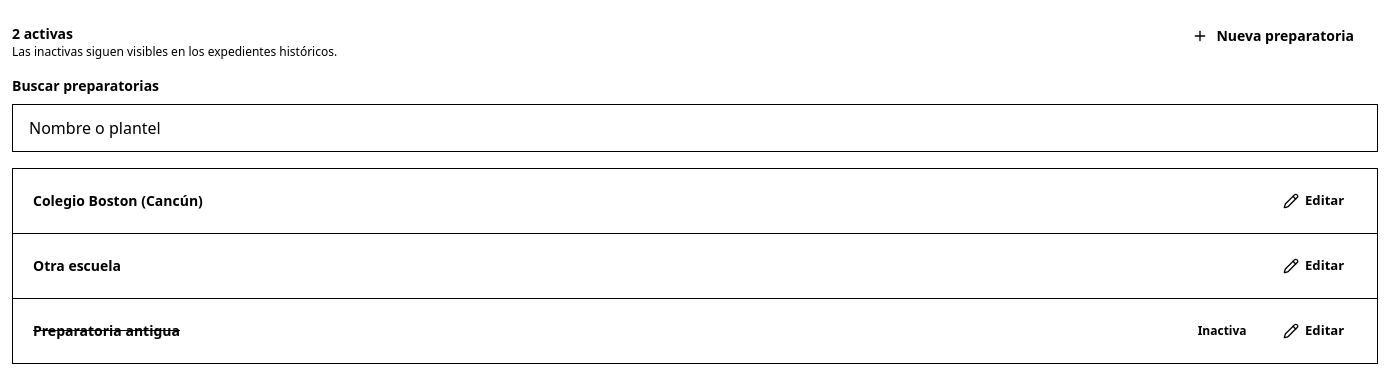
Test: shows active count, searches names and keeps inactive entries visible to coordination
The image size is (1390, 381).
Expected: the text "2 activas" is shown, [12,24,73,43]
Expected: the text "Preparatoria antigua" is shown, [33,321,180,340]
In the field labelled "Buscar preparatorias": coordinates (695, 128) [12,104,1378,152], type "Boston"
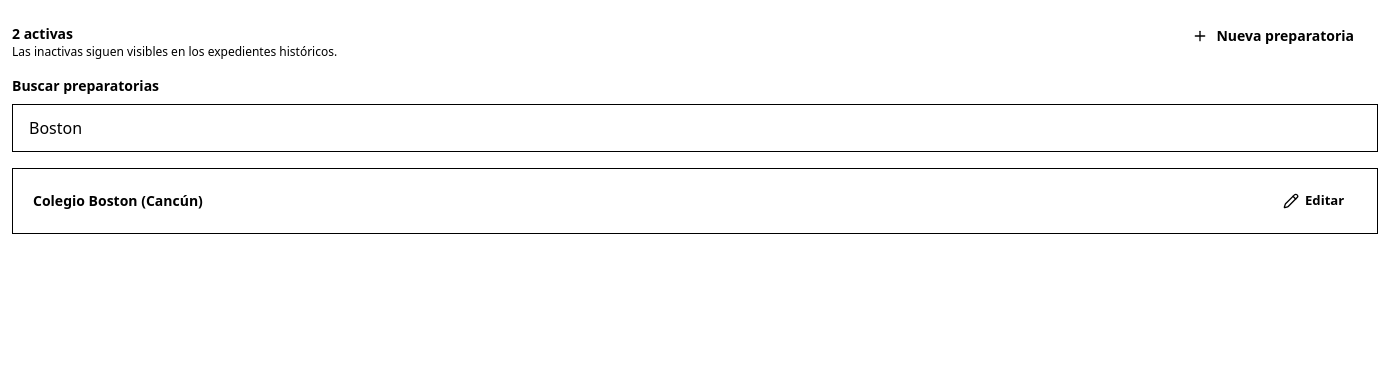
Expected: the text "Colegio Boston (Cancún)" is shown, [33,191,203,210]
Expected: the text "Otra escuela" is gone
